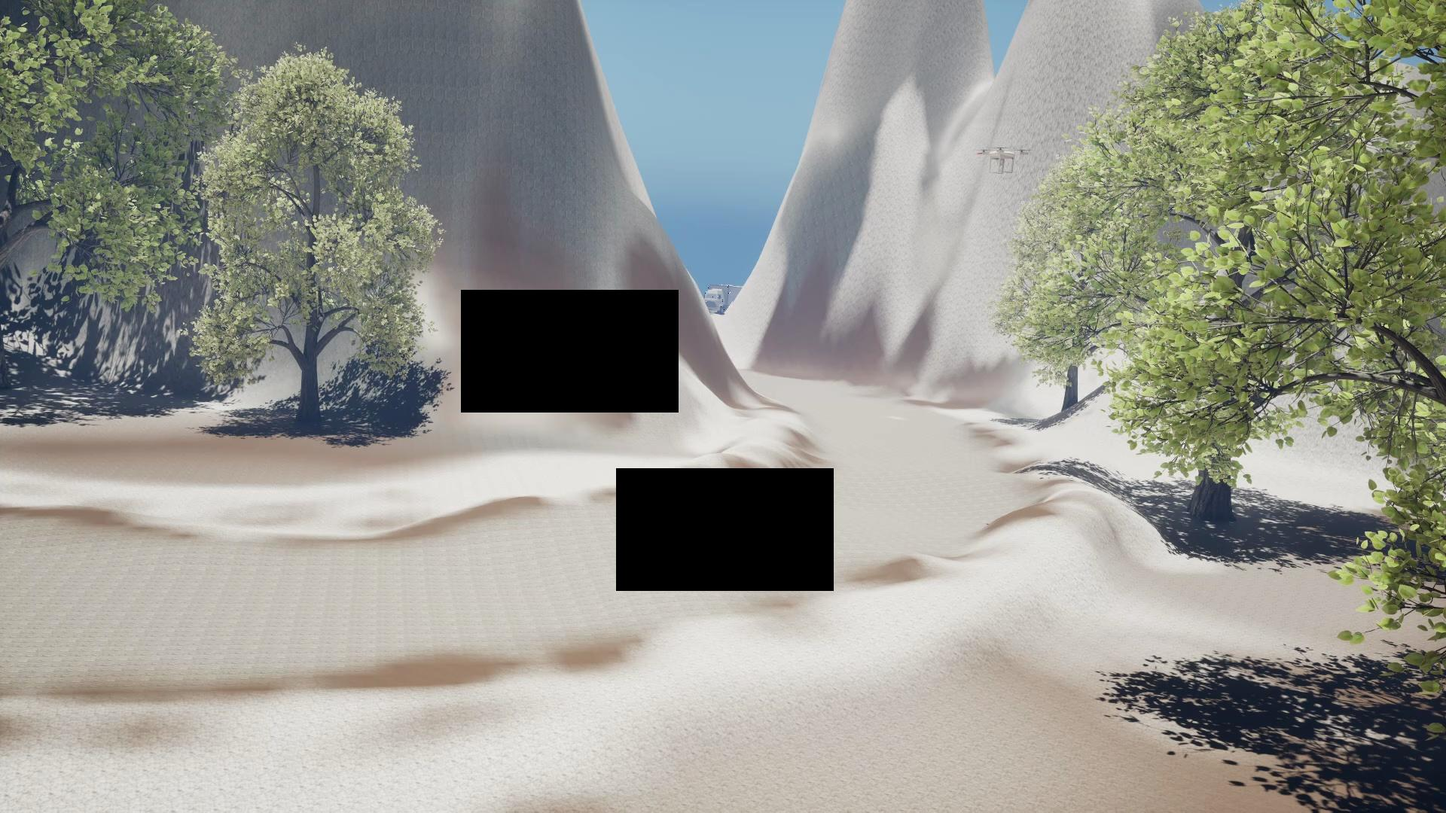truck: (706, 285, 734, 314)
